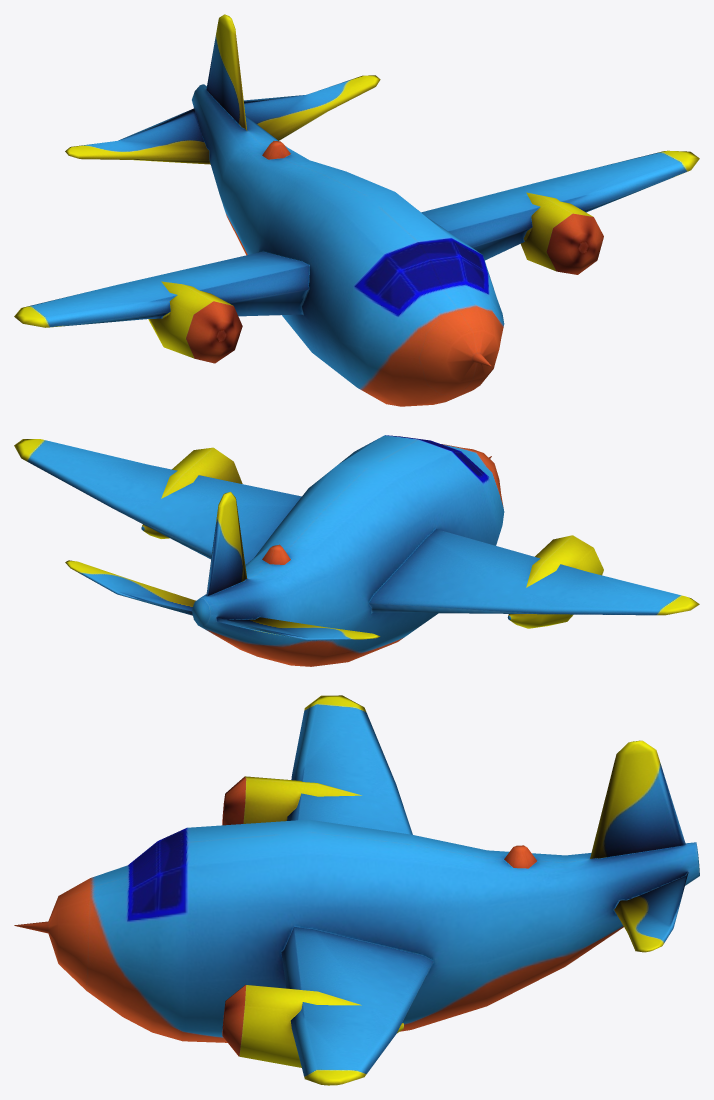
3 views of the same model, one above another, from view 1: azimuth 30°, elevation 25°; view 2: azimuth 150°, elevation 25°; view 3: azimuth 270°, elevation 25° (orthographic). The views are drawn at different scales.
Parts seen in each view (by area): view 1: Catoon_B26; view 2: Catoon_B26; view 3: Catoon_B26.
Boxes of the visible parts, x1,y1,x2,y2 form: Catoon_B26: (14,14,699,406); Catoon_B26: (14,435,699,666); Catoon_B26: (14,695,699,1085).
Size of the model in its own units: 82.53 by 29.08 by 61.47.
1 material, 1 textured.
